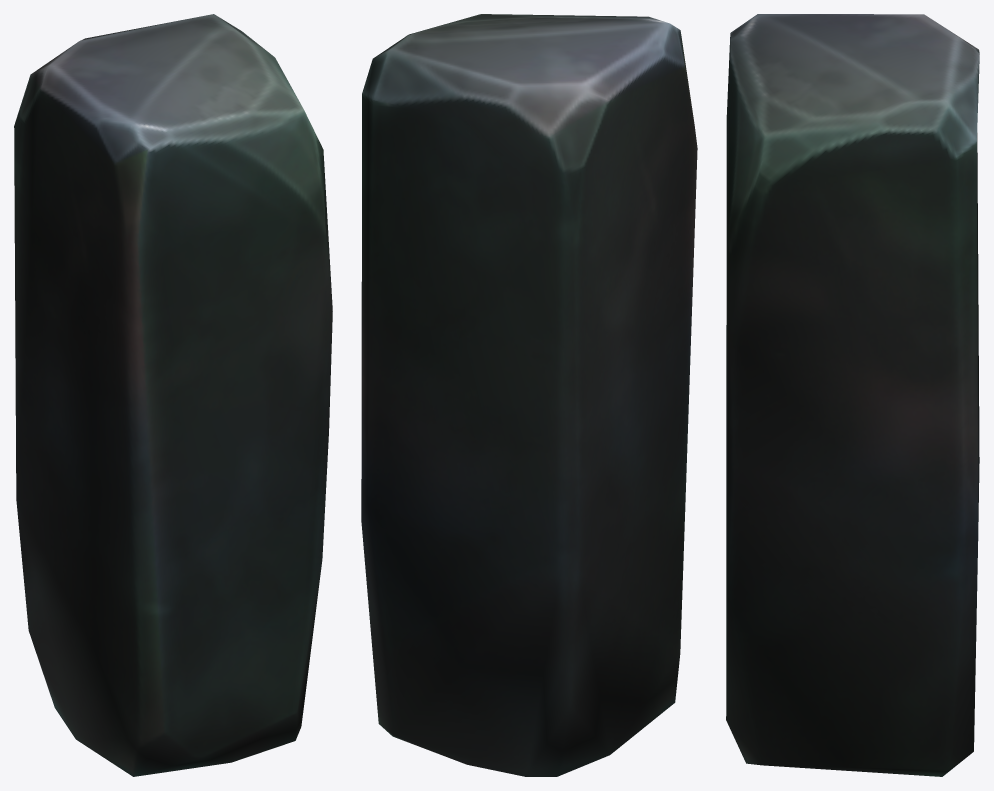
Rendered from SM_Gem_BlackQuartz_003.fbx.
3 renders of one model, left to right at view 1: azimuth 30°, elevation 25°; view 2: azimuth 150°, elevation 25°; view 3: azimuth 270°, elevation 25°, orthographic. The views are drawn at different scales.
Parts seen in each view (by area): view 1: SM_Gem_BlackQuartz_003; view 2: SM_Gem_BlackQuartz_003; view 3: SM_Gem_BlackQuartz_003.
Boxes of the visible parts, box(x1,y1,x2,y2) form: SM_Gem_BlackQuartz_003: box(14, 14, 332, 776); SM_Gem_BlackQuartz_003: box(361, 14, 697, 776); SM_Gem_BlackQuartz_003: box(726, 14, 979, 776).
Bounding box in the file's own units: 14.77 × 43.46 × 14.79.
